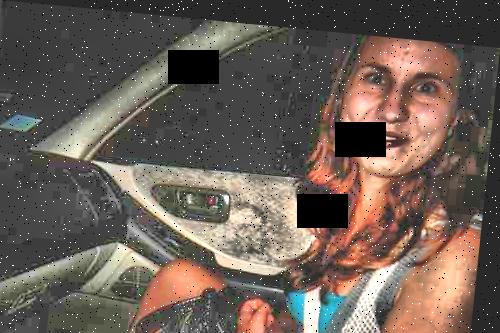seatbelt: (286, 203, 357, 333)
